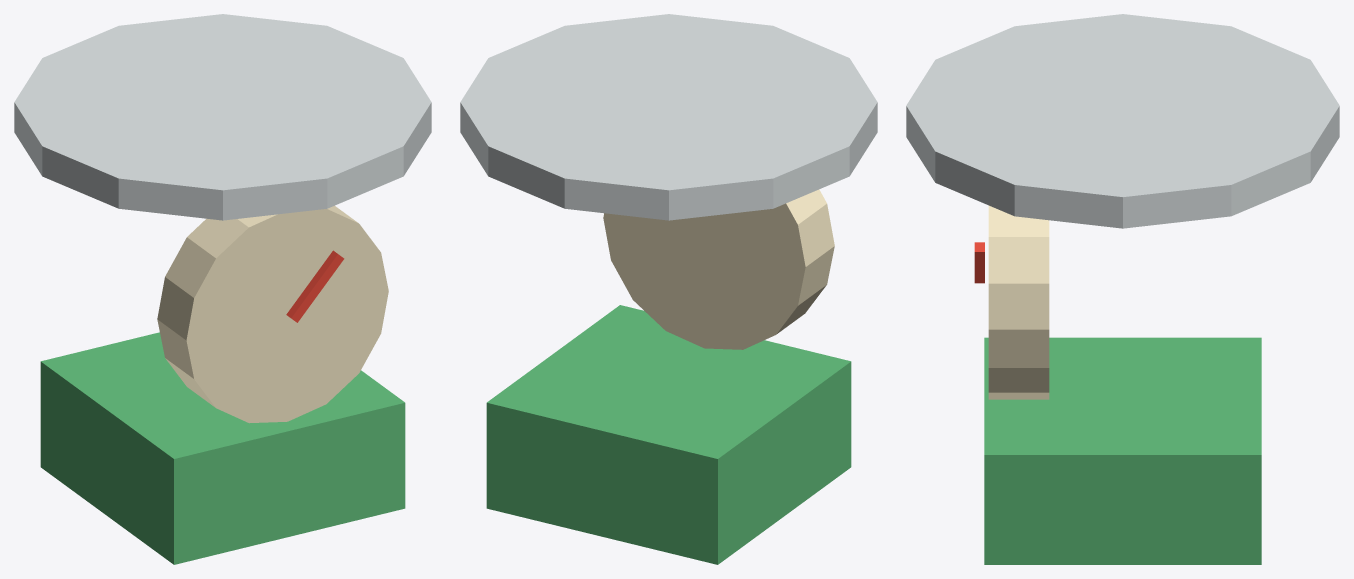
Rendered from TR_Weighing_Scale.glb.
The picture shows the model from 3 angles, left to right: view 1: azimuth 30°, elevation 25°; view 2: azimuth 150°, elevation 25°; view 3: azimuth 270°, elevation 25°; orthographic projection. The views are drawn at different scales.
Parts seen in each view (by area): view 1: TR_Weighing_Scale; view 2: TR_Weighing_Scale; view 3: TR_Weighing_Scale.
Boxes of the visible parts, bbox=[...] form: TR_Weighing_Scale: bbox=[14, 14, 431, 564]; TR_Weighing_Scale: bbox=[460, 14, 877, 564]; TR_Weighing_Scale: bbox=[906, 14, 1339, 564].
Bounding box in the file's own units: 0.5 × 0.51 × 0.5.
